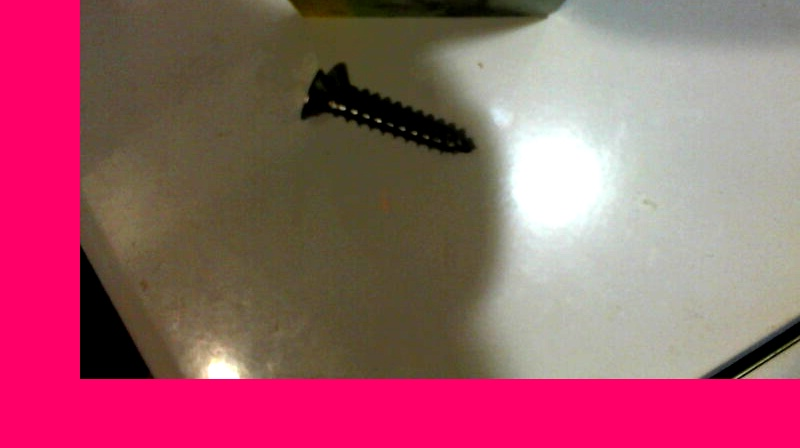S001: (296, 64, 478, 155)
